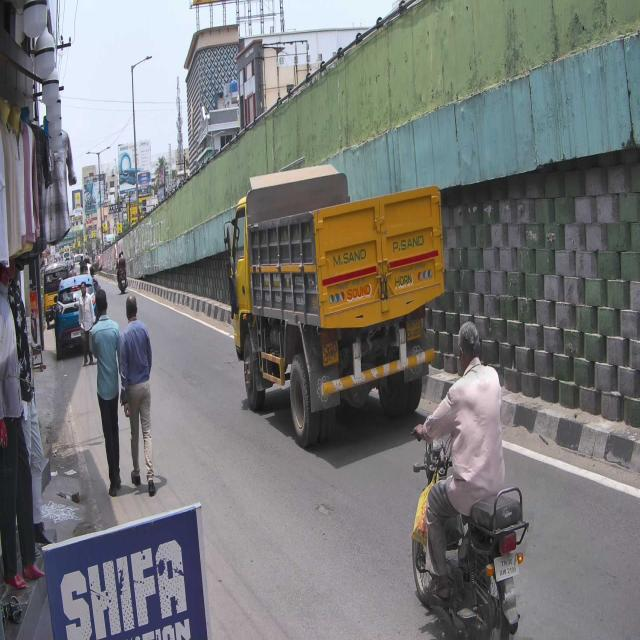single_rider: (414, 322, 529, 640)
